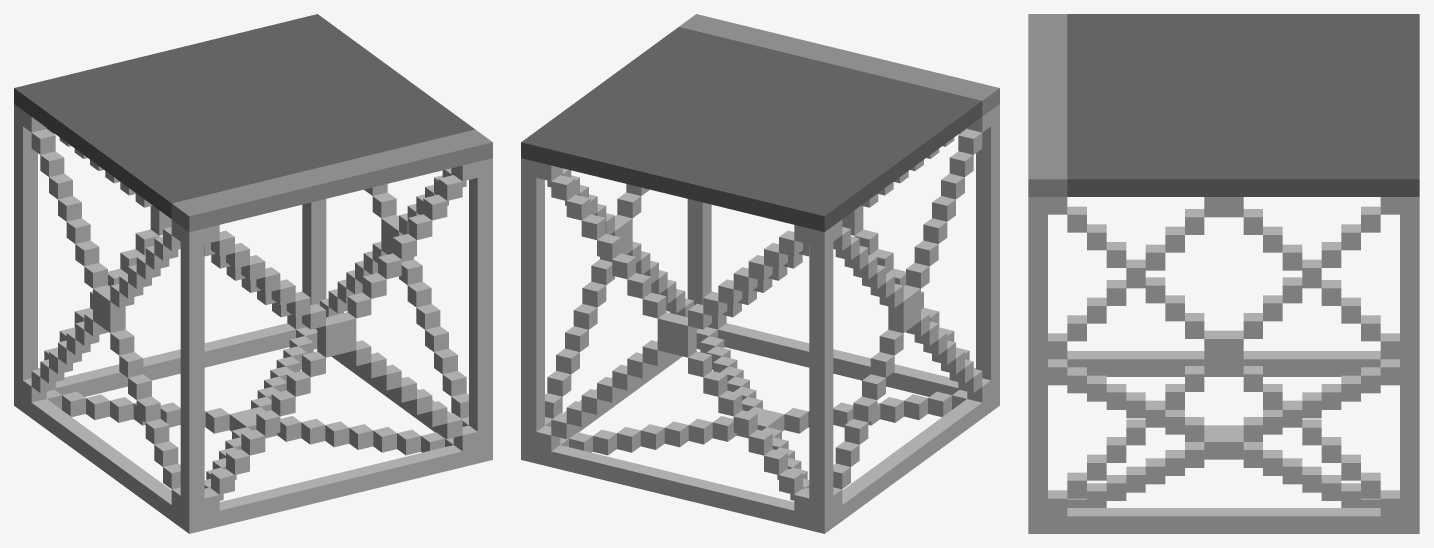
Rendered from cube_covered_side.obj.
The picture shows the model from 3 angles, left to right: view 1: azimuth 30°, elevation 25°; view 2: azimuth 150°, elevation 25°; view 3: azimuth 270°, elevation 25°; orthographic projection. The views are drawn at different scales.
Size of the model in its own units: 20 by 20 by 20.
